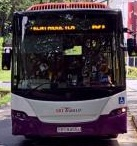bus: (88, 20, 106, 30)
